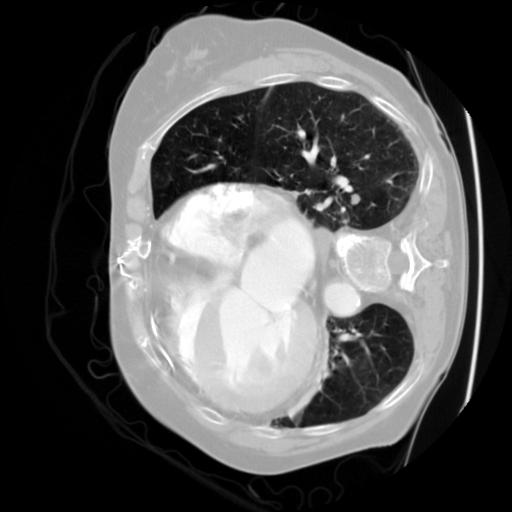nodule: (347, 189, 364, 206)
